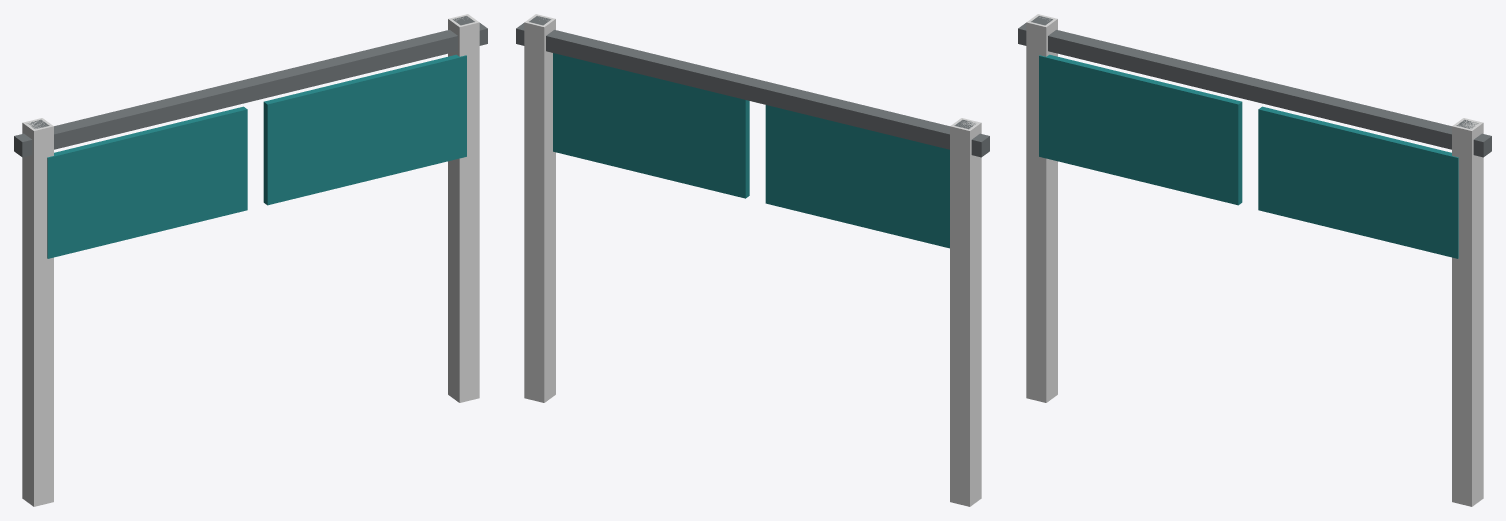
The model's file is bh_prop_direction_sign_frame_a_01.glb.
3 views of the same model, side by side, from view 1: azimuth 30°, elevation 25°; view 2: azimuth 150°, elevation 25°; view 3: azimuth 330°, elevation 25° (orthographic).
Parts seen in each view (by area): view 1: bh_prop_direction_sign_frame_a_01_panel_right, bh_prop_direction_sign_frame_a_01_panel_left, col_bh_prop_direction_sign_frame_a_01_pole_-3.2, bh_prop_direction_sign_frame_a_01_beam, col_bh_prop_direction_sign_frame_a_01_pole_+3.2; view 2: bh_prop_direction_sign_frame_a_01_panel_right, bh_prop_direction_sign_frame_a_01_panel_left, col_bh_prop_direction_sign_frame_a_01_pole_-3.2, col_bh_prop_direction_sign_frame_a_01_pole_+3.2, bh_prop_direction_sign_frame_a_01_beam; view 3: bh_prop_direction_sign_frame_a_01_panel_left, bh_prop_direction_sign_frame_a_01_panel_right, col_bh_prop_direction_sign_frame_a_01_pole_+3.2, bh_prop_direction_sign_frame_a_01_beam, col_bh_prop_direction_sign_frame_a_01_pole_-3.2.
Boxes of the visible parts, x1,y1,x2,y2 form: bh_prop_direction_sign_frame_a_01_panel_right: [263, 54, 466, 205]; bh_prop_direction_sign_frame_a_01_panel_left: [47, 106, 247, 258]; col_bh_prop_direction_sign_frame_a_01_pole_-3.2: [22, 118, 53, 506]; bh_prop_direction_sign_frame_a_01_beam: [14, 23, 487, 157]; col_bh_prop_direction_sign_frame_a_01_pole_+3.2: [448, 14, 479, 402]; bh_prop_direction_sign_frame_a_01_panel_right: [553, 53, 749, 198]; bh_prop_direction_sign_frame_a_01_panel_left: [765, 105, 949, 248]; col_bh_prop_direction_sign_frame_a_01_pole_-3.2: [950, 118, 981, 506]; col_bh_prop_direction_sign_frame_a_01_pole_+3.2: [524, 14, 555, 402]; bh_prop_direction_sign_frame_a_01_beam: [516, 23, 989, 157]; bh_prop_direction_sign_frame_a_01_panel_left: [1039, 54, 1242, 205]; bh_prop_direction_sign_frame_a_01_panel_right: [1258, 106, 1458, 258]; col_bh_prop_direction_sign_frame_a_01_pole_+3.2: [1452, 118, 1483, 506]; bh_prop_direction_sign_frame_a_01_beam: [1018, 23, 1491, 157]; col_bh_prop_direction_sign_frame_a_01_pole_-3.2: [1026, 14, 1057, 402].
Size of the model in its own units: 7 by 5.4 by 0.32.
